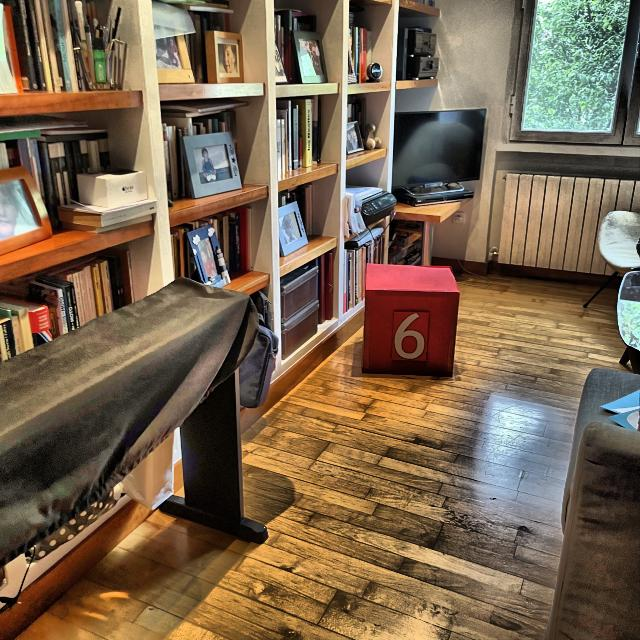red box: (364, 263, 459, 378)
six: (394, 312, 425, 360)
